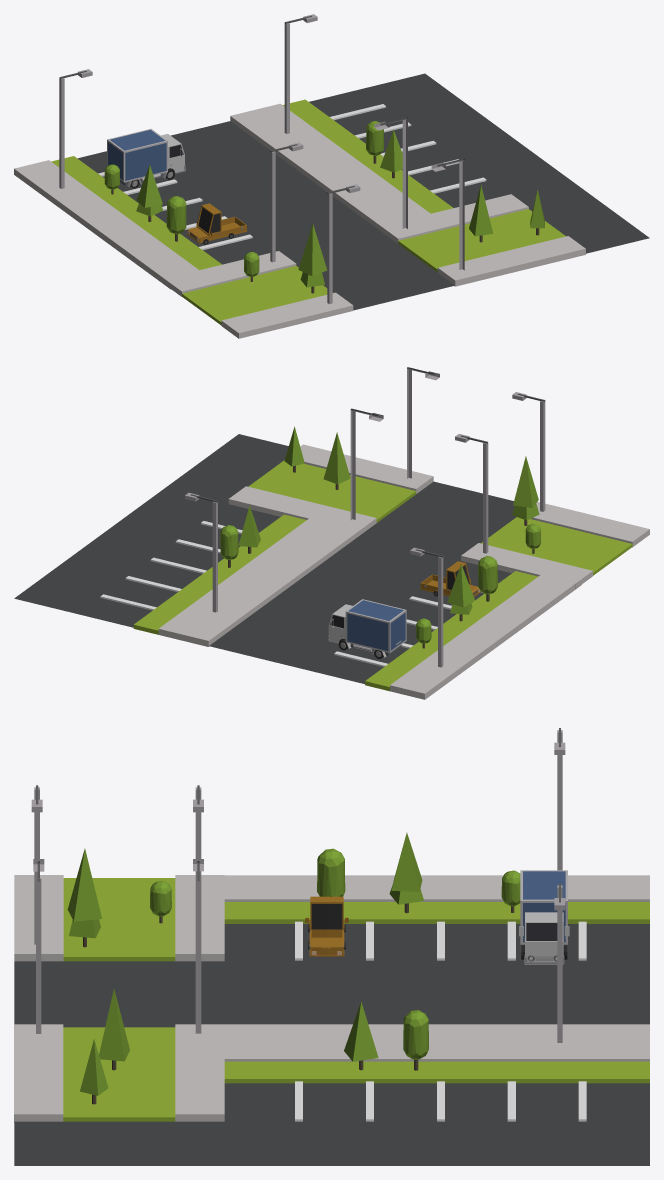
File: parking_lot.glb
3 renders of one model, top to bottom at view 1: azimuth 30°, elevation 25°; view 2: azimuth 150°, elevation 25°; view 3: azimuth 270°, elevation 25°, orthographic. The views are drawn at different scales.
Visible parts, largest first — view 1: Plane_Plane.008, Cube.905_Cube.3610_8680a5, Cube.905_Cube.3610_46af8f, Cube.030_Cube.042_e3e3f6, Cube.030_Cube.042_2fa75b, Cube.916_Cube.3629_c3baae, Cube.024_Cube.041, CarColored.000_Cube.3470_28eb6c, Cone.005_Cone.031, Icosphere.164_Icosphere.194, Cone.003_Cone.029, Cube.003_Cube.010 (+10 smaller); view 2: Plane_Plane.008, Cube.905_Cube.3610_8680a5, Cube.905_Cube.3610_46af8f, Cube.030_Cube.042_e3e3f6, Cube.030_Cube.042_2fa75b, Cube.916_Cube.3629_c3baae, Cube.024_Cube.041, Cube.916_Cube.3629_c5d647, Cone.003_Cone.029, Cone.005_Cone.031, Icosphere.164_Icosphere.194, Cube.037_Cube.038 (+10 smaller); view 3: Plane_Plane.008, Cube.905_Cube.3610_8680a5, Cube.905_Cube.3610_46af8f, Cube.030_Cube.042_e3e3f6, Cube.030_Cube.042_2fa75b, Cube.024_Cube.041, Cube.000_Cube.007, Cube.916_Cube.3629_c3baae, CarColored.000_Cube.3470_28eb6c, Cone.005_Cone.031, Cone.003_Cone.029, Icosphere.164_Icosphere.194 (+13 smaller).
Part boxes in pixels (x1,y1,x2,y2): Plane_Plane.008: (77, 73, 649, 310); Cube.905_Cube.3610_8680a5: (14, 103, 585, 289); Cube.905_Cube.3610_46af8f: (51, 99, 565, 272); Cube.030_Cube.042_e3e3f6: (164, 251, 353, 338); Cube.030_Cube.042_2fa75b: (182, 266, 332, 324); Cube.916_Cube.3629_c3baae: (108, 130, 166, 180); Cube.024_Cube.041: (330, 104, 486, 193); CarColored.000_Cube.3470_28eb6c: (187, 203, 247, 243); Cone.005_Cone.031: (298, 223, 327, 276); Icosphere.164_Icosphere.194: (166, 196, 186, 234); Cone.003_Cone.029: (469, 184, 493, 236); Cube.003_Cube.010: (59, 78, 64, 188); Plane_Plane.008: (14, 434, 516, 683); Cube.905_Cube.3610_8680a5: (158, 444, 581, 699); Cube.905_Cube.3610_46af8f: (133, 460, 537, 691); Cube.030_Cube.042_e3e3f6: (461, 501, 649, 588); Cube.030_Cube.042_2fa75b: (481, 517, 632, 575); Cube.916_Cube.3629_c3baae: (347, 600, 405, 650); Cube.024_Cube.041: (100, 521, 242, 610); Cube.916_Cube.3629_c5d647: (345, 599, 406, 657); Cone.003_Cone.029: (323, 432, 350, 484); Cone.005_Cone.031: (513, 456, 538, 507); Icosphere.164_Icosphere.194: (478, 556, 497, 594); Cube.037_Cube.038: (212, 501, 217, 612); Plane_Plane.008: (14, 924, 649, 1165); Cube.905_Cube.3610_8680a5: (14, 875, 649, 1122); Cube.905_Cube.3610_46af8f: (63, 902, 649, 1121); Cube.030_Cube.042_e3e3f6: (14, 875, 224, 961); Cube.030_Cube.042_2fa75b: (63, 878, 175, 961); Cube.024_Cube.041: (295, 1081, 586, 1121); Cube.000_Cube.007: (295, 921, 586, 960); Cube.916_Cube.3629_c3baae: (523, 871, 565, 942); CarColored.000_Cube.3470_28eb6c: (305, 896, 348, 956); Cone.005_Cone.031: (67, 848, 101, 921); Cone.003_Cone.029: (99, 989, 129, 1061); Icosphere.164_Icosphere.194: (317, 848, 345, 896).
Size of the model in its own units: 4.1 by 1.12 by 3.89.
